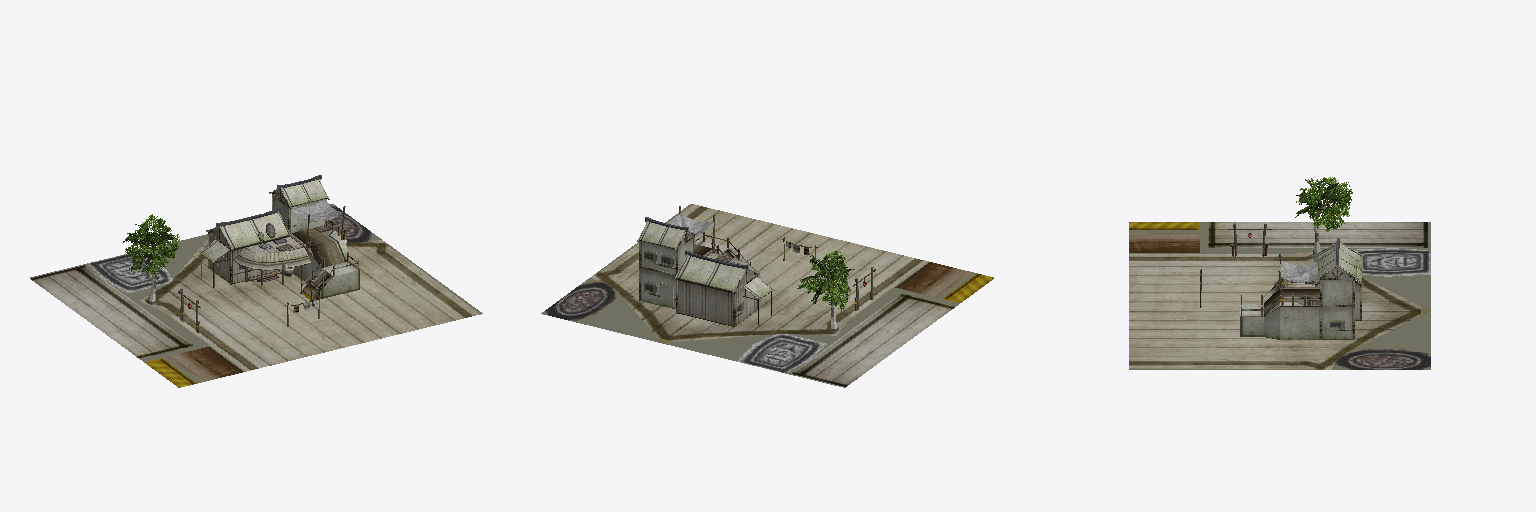
3 renders of one model, left to right at view 1: azimuth 30°, elevation 25°; view 2: azimuth 150°, elevation 25°; view 3: azimuth 270°, elevation 25°, orthographic.
Parts seen in each view (by area): view 1: Plane01; view 2: Plane01; view 3: Plane01.
Part boxes in pixels (x1,y1,x2,y2): Plane01: (30, 175, 482, 387); Plane01: (541, 204, 993, 387); Plane01: (1129, 177, 1430, 369).
Size of the model in its own units: 59.62 by 14.91 by 51.1.
Materials: 4 (4 with a texture image).